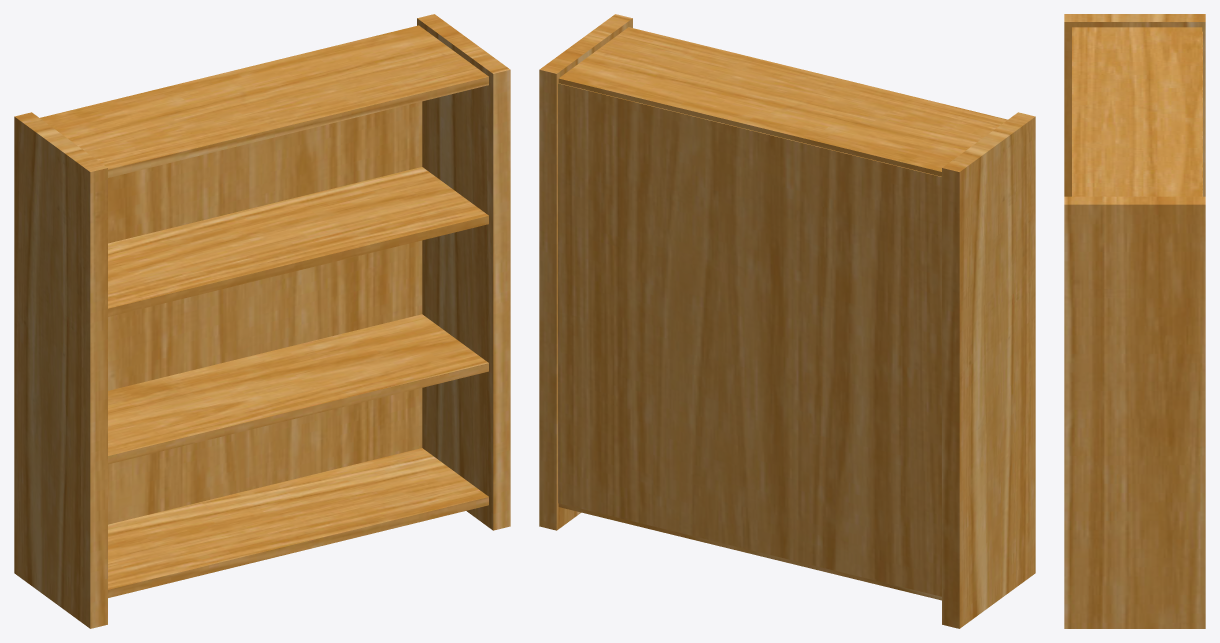
File: bookshelf_New.fbx
3 renders of one model, left to right at view 1: azimuth 30°, elevation 25°; view 2: azimuth 150°, elevation 25°; view 3: azimuth 270°, elevation 25°, orthographic. The views are drawn at different scales.
Parts seen in each view (by area): view 1: sideR; view 2: sideR; view 3: sideR.
Boxes of the visible parts, <box> form: sideR: <box>14,14,510,628</box>; sideR: <box>539,14,1035,628</box>; sideR: <box>1064,14,1205,628</box>.
Size of the model in its own units: 429 by 446 by 134.
